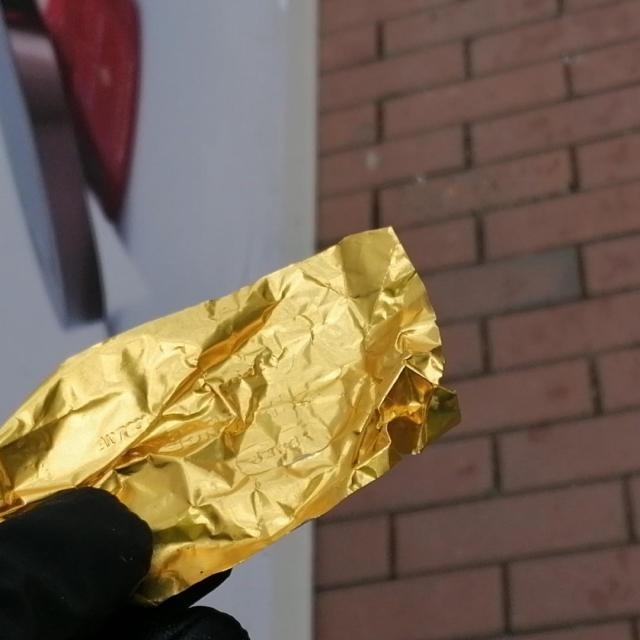Plastic: (0, 222, 464, 610)
